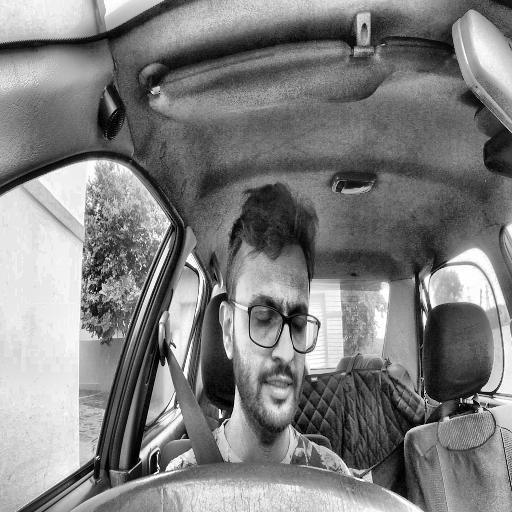drowsy: (219, 181, 321, 432)
